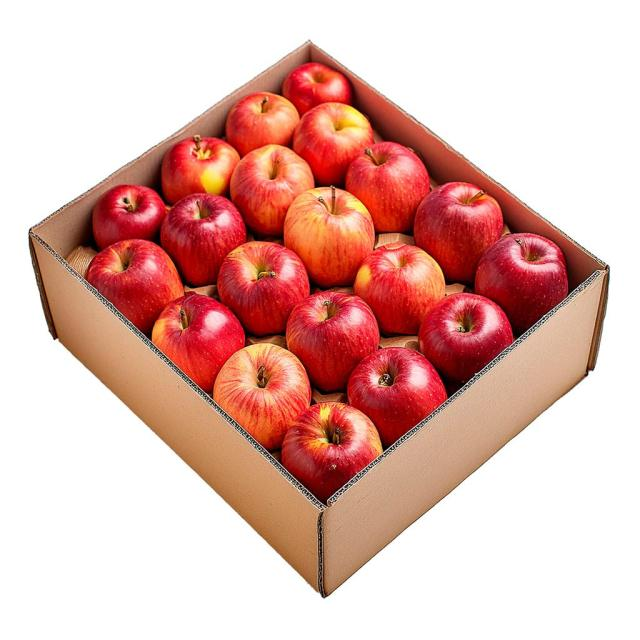manzana: (280, 187, 385, 284), (412, 182, 502, 278), (158, 194, 244, 285)
